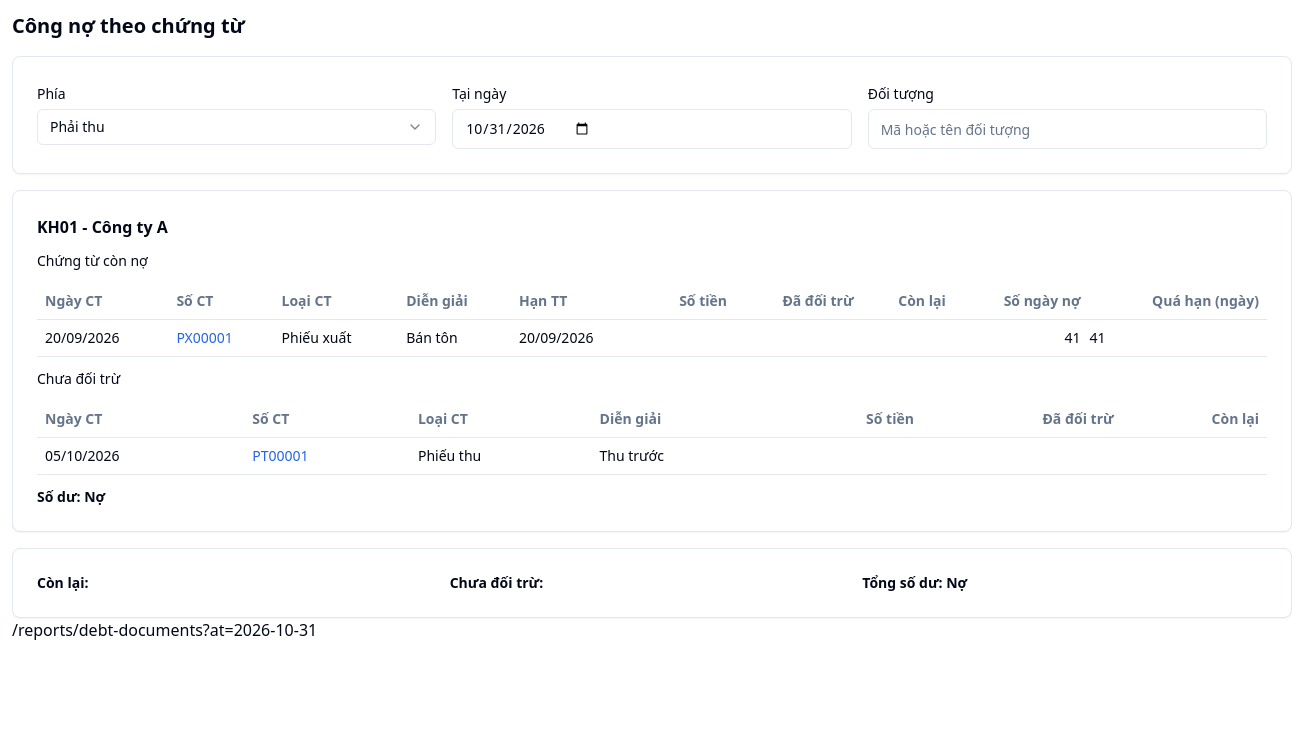
DebtDocumentsPage › changing Tại ngày updates the url
Type "2026-11-15" into the date field labelled "Tại ngày". click: (652, 129)
box: [452,109,852,149]
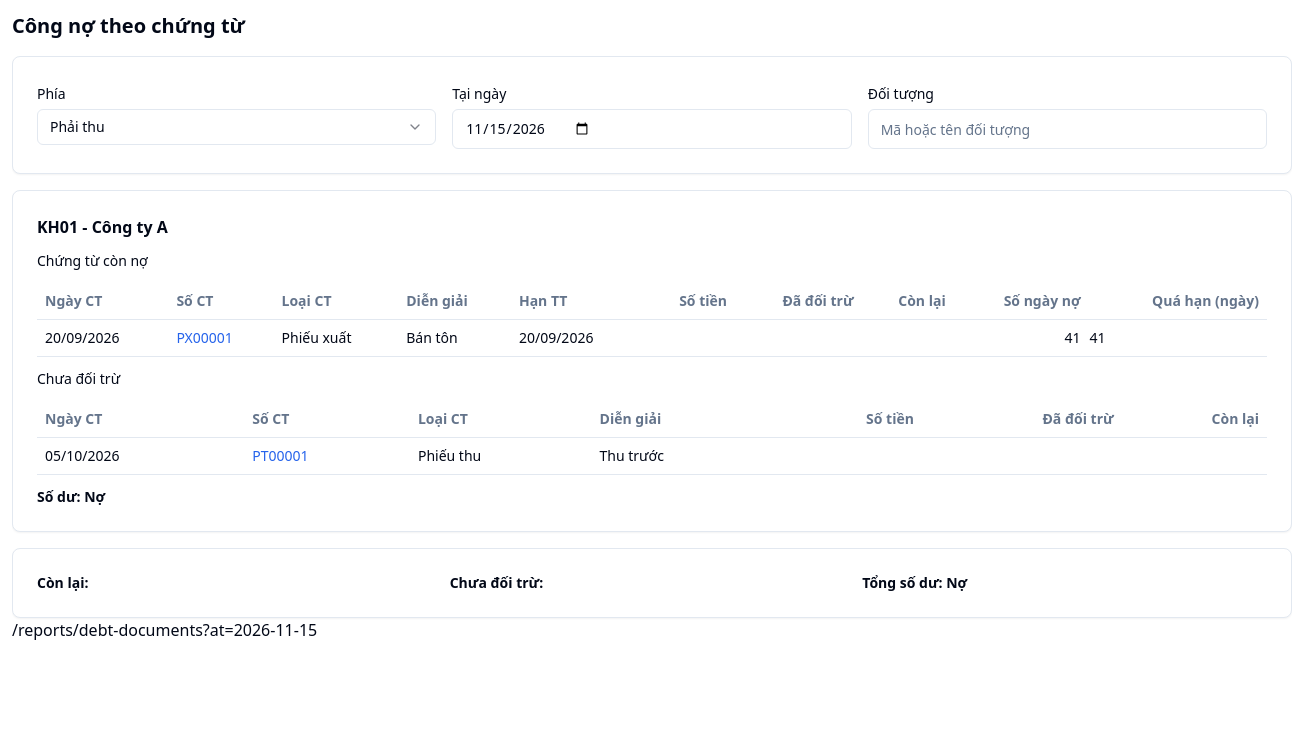
Expected: the text with test id "location" shows "at=2026-11-15", [12,619,317,641]
